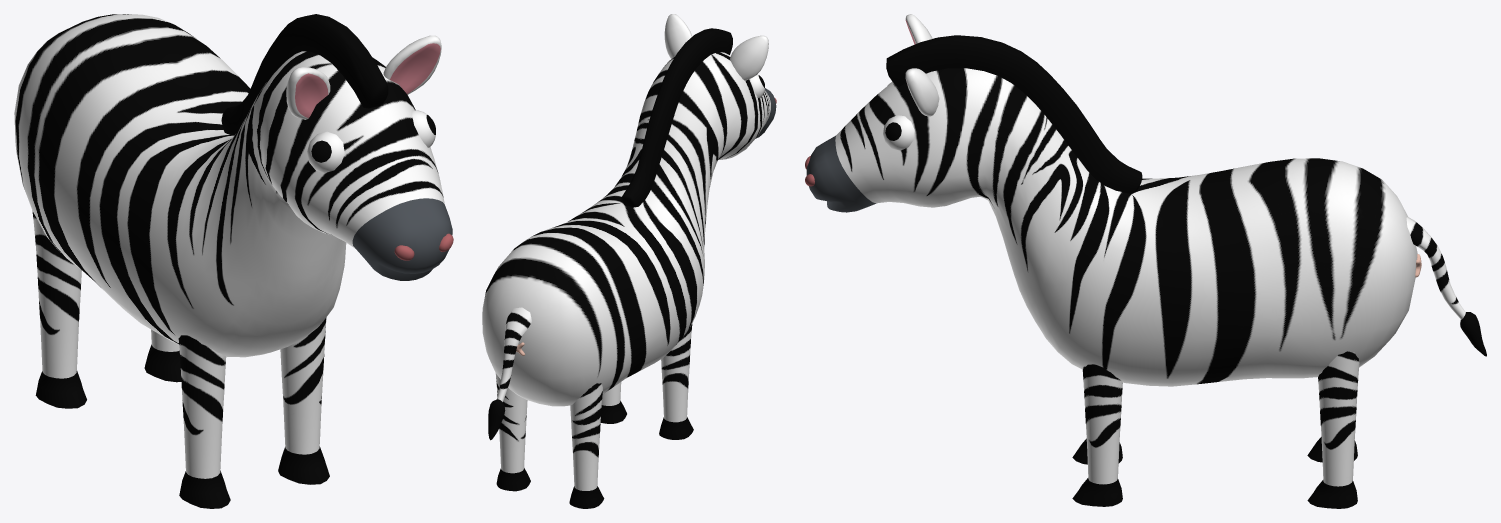
File: Zebra.fbx
The picture shows the model from 3 angles, left to right: view 1: azimuth 30°, elevation 25°; view 2: azimuth 150°, elevation 25°; view 3: azimuth 270°, elevation 25°; orthographic projection. The views are drawn at different scales.
Parts seen in each view (by area): view 1: Zebra; view 2: Zebra; view 3: Zebra.
Boxes of the visible parts, bbox=[...] form: Zebra: bbox=[14, 14, 453, 508]; Zebra: bbox=[482, 14, 776, 508]; Zebra: bbox=[805, 14, 1486, 508].
Bounding box in the file's own units: 164 × 398 × 558.
